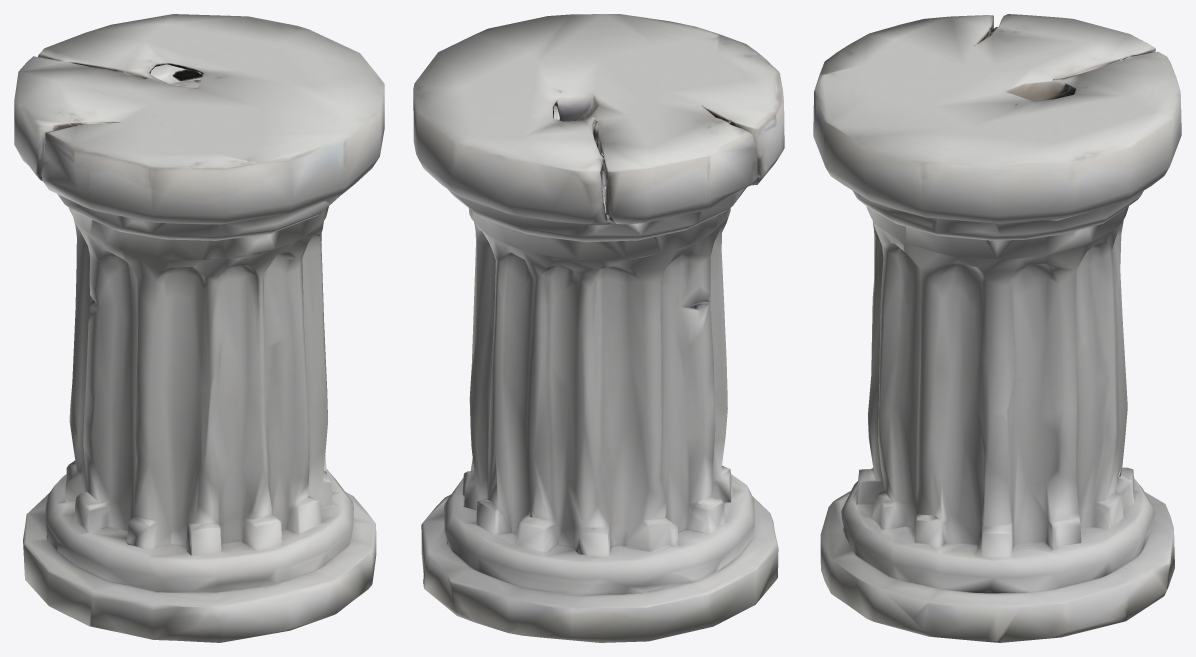
Rendered from broken_column.glb.
3 views of the same model, side by side, from view 1: azimuth 30°, elevation 25°; view 2: azimuth 150°, elevation 25°; view 3: azimuth 270°, elevation 25° (orthographic).
Bounding box in the file's own units: 1.41 × 2 × 1.4.
Materials: 1 (1 with a texture image).
